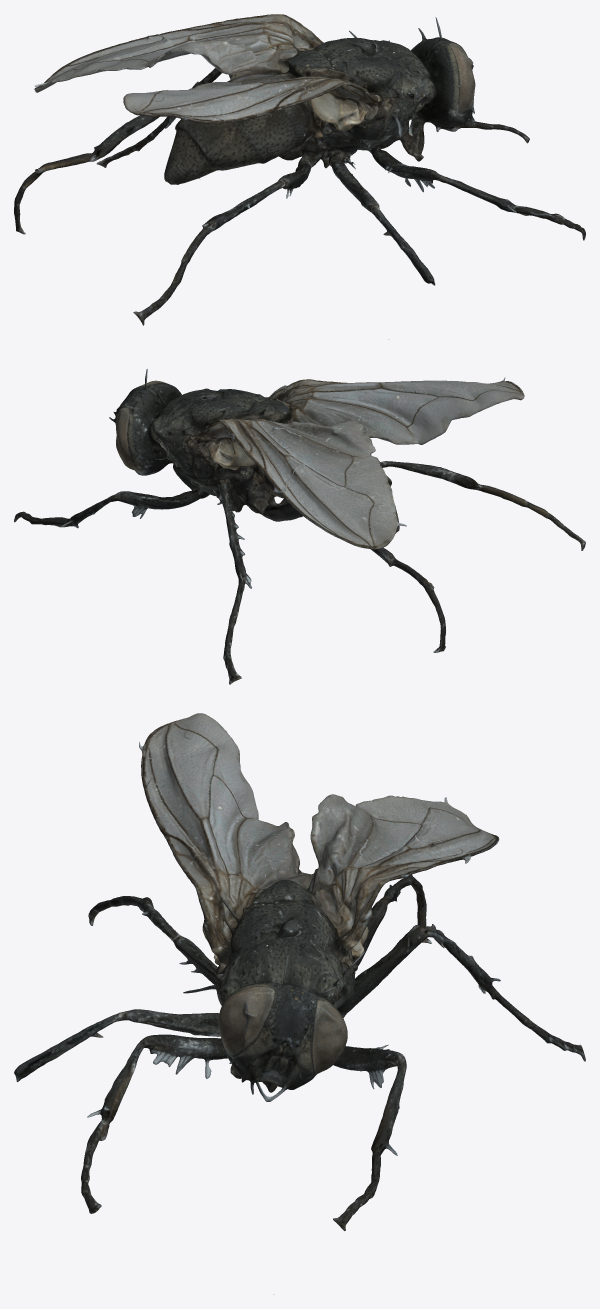
File: musca_domestica.glb
3 renders of one model, top to bottom at view 1: azimuth 30°, elevation 25°; view 2: azimuth 150°, elevation 25°; view 3: azimuth 270°, elevation 25°, orthographic. The views are drawn at different scales.
Parts seen in each view (by area): view 1: Object_2; view 2: Object_2; view 3: Object_2.
Boxes of the visible parts, x1,y1,x2,y2 form: Object_2: (14, 14, 585, 339); Object_2: (14, 369, 585, 684); Object_2: (14, 713, 585, 1294).
Bounding box in the file's own units: 8.38 × 5.42 × 6.9.
1 material, 1 textured.
